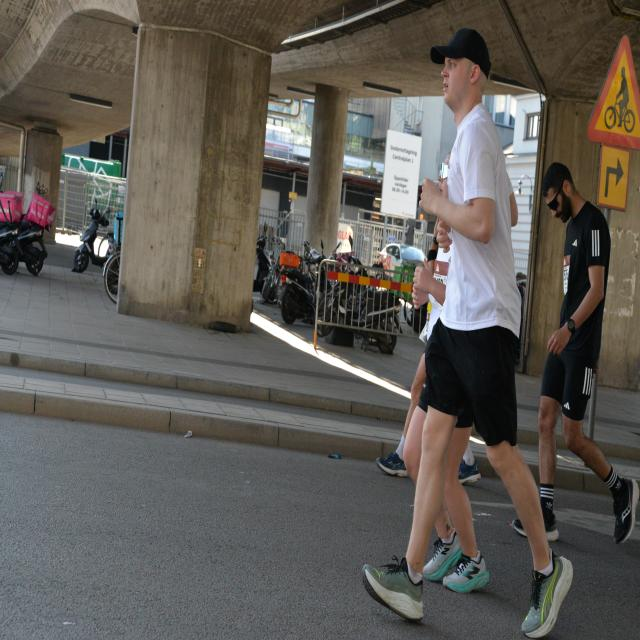runner-detect: (361, 35, 579, 635), (519, 145, 637, 558)
